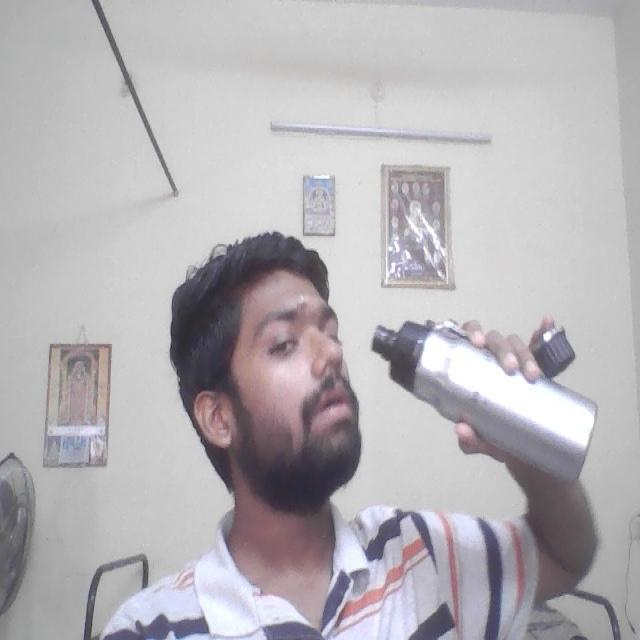Drinking: (356, 299, 608, 503)
